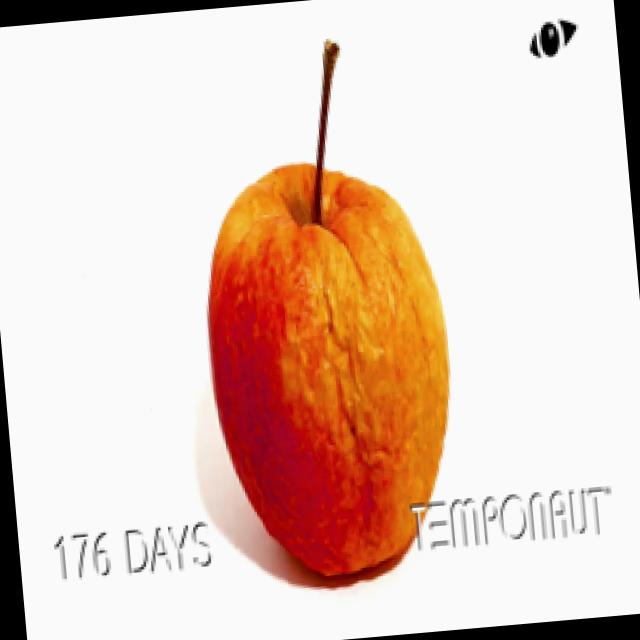Rotten_Apple: (175, 0, 474, 596)
